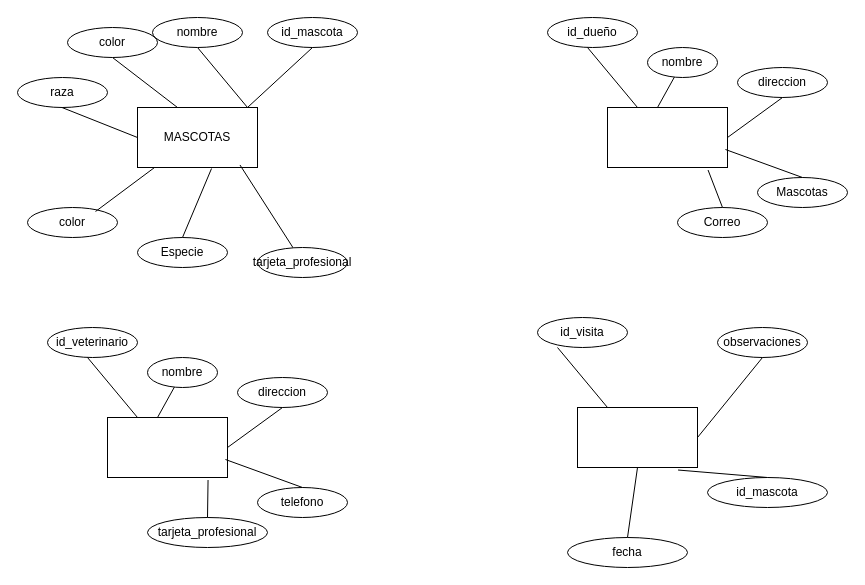
This 865x585 diagram has some shape labels left out. The shapes that lost their labels are listed below. From the top down, each one's centre as x and y in pixels, then its label:
the point at 667,137: DUEÑOS
the point at 167,447: VETERINARIOS
the point at 637,437: VISITAS
